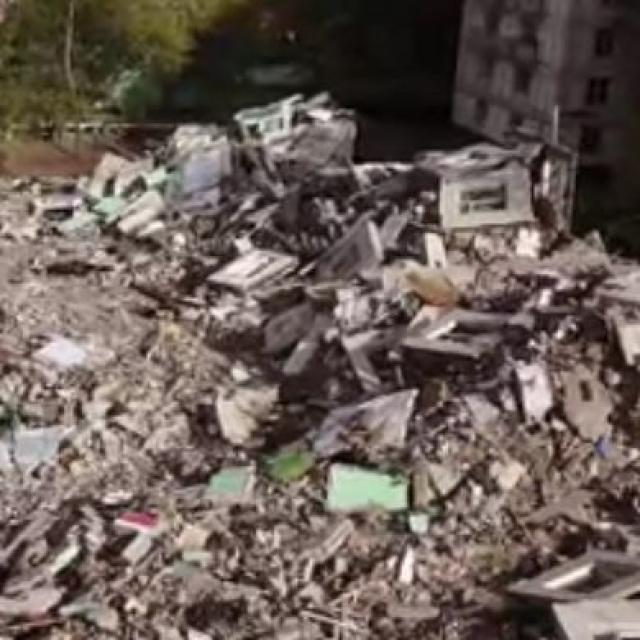collapsed_building: (5, 135, 638, 617)
